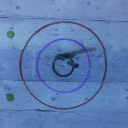Axe Tip: (60, 55, 72, 58)
